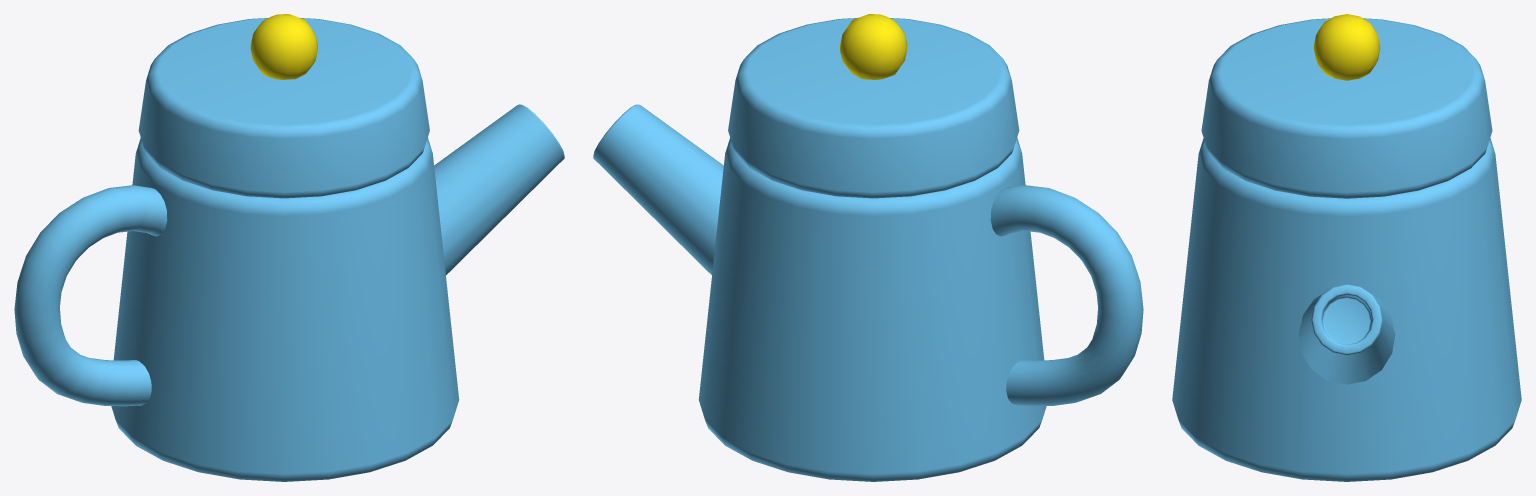
File: Store_18_Teapot_1.glb
3 renders of one model, left to right at view 1: azimuth 30°, elevation 25°; view 2: azimuth 150°, elevation 25°; view 3: azimuth 270°, elevation 25°, orthographic.
Visible parts, largest first — view 1: Store_18_Teapot_1; view 2: Store_18_Teapot_1; view 3: Store_18_Teapot_1.
Boxes of the visible parts, x1=… form: Store_18_Teapot_1: x1=14, y1=14, x2=564, y2=481; Store_18_Teapot_1: x1=593, y1=14, x2=1143, y2=481; Store_18_Teapot_1: x1=1172, y1=14, x2=1521, y2=481.
Size of the model in its own units: 0.5217 by 0.3663 by 0.2929.
Materials: 1 (1 with a texture image).
